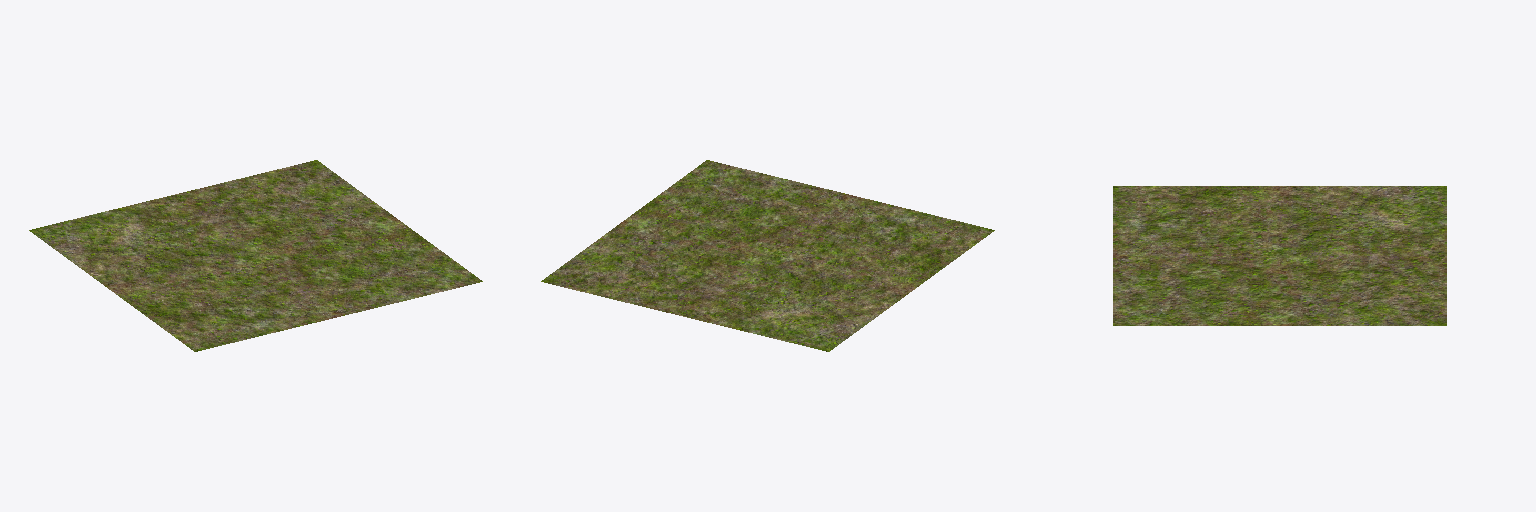
The picture shows the model from 3 angles: view 1: azimuth 30°, elevation 25°; view 2: azimuth 150°, elevation 25°; view 3: azimuth 270°, elevation 25°; orthographic projection.
Visible parts, largest first — view 1: Plane; view 2: Plane; view 3: Plane.
Boxes of the visible parts, <box> form: Plane: <box>29,160,482,351</box>; Plane: <box>541,160,994,351</box>; Plane: <box>1113,186,1446,325</box>.
Bounding box in the file's own units: 1.61 × 0 × 1.61.
Materials: 1 (1 with a texture image).